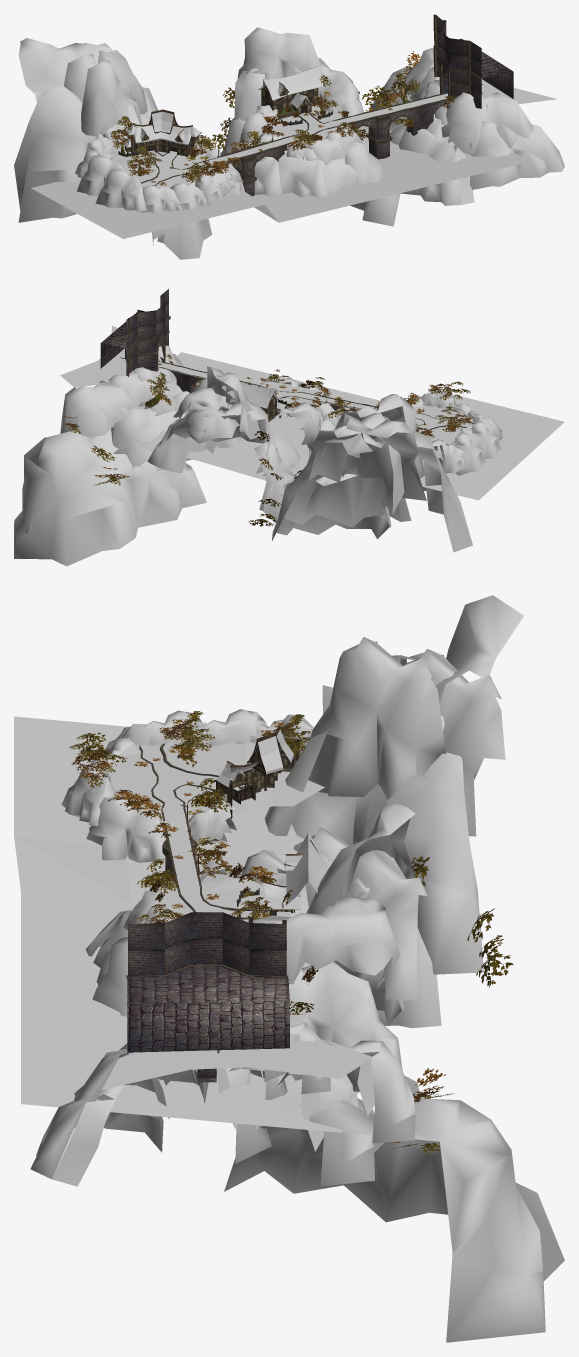
Rendered from taikr_xinshouc.FBX.
3 views of the same model, one above another, from view 1: azimuth 30°, elevation 25°; view 2: azimuth 150°, elevation 25°; view 3: azimuth 270°, elevation 25° (orthographic). The views are drawn at different scales.
Visible parts, largest first — view 1: rock, dadi, ZHUti, alpha, Dimian, wuding, lux; view 2: rock, dadi, ZHUti, alpha, Dimian, lux, wuding; view 3: rock, dadi, ZHUti, Dimian, alpha, lux, wuding.
Boxes of the visible parts, bbox=[...] form: rock: bbox=[14, 27, 564, 259]; dadi: bbox=[31, 130, 529, 238]; ZHUti: bbox=[118, 14, 513, 196]; alpha: bbox=[110, 51, 456, 185]; Dimian: bbox=[111, 79, 557, 188]; wuding: bbox=[124, 65, 323, 149]; lux: bbox=[141, 83, 492, 187]; rock: bbox=[14, 345, 502, 566]; dadi: bbox=[133, 352, 564, 500]; ZHUti: bbox=[100, 289, 474, 433]; alpha: bbox=[62, 354, 472, 526]; Dimian: bbox=[60, 325, 474, 457]; lux: bbox=[115, 352, 474, 432]; wuding: bbox=[222, 382, 416, 429]; rock: bbox=[30, 595, 564, 1342]; dadi: bbox=[14, 716, 359, 1132]; ZHUti: bbox=[125, 719, 328, 1082]; Dimian: bbox=[101, 741, 372, 1089]; alpha: bbox=[69, 711, 513, 1154]; lux: bbox=[140, 743, 269, 1058]; wuding: bbox=[213, 729, 332, 909].
Size of the model in its own units: 25482 by 12176 by 15126.
